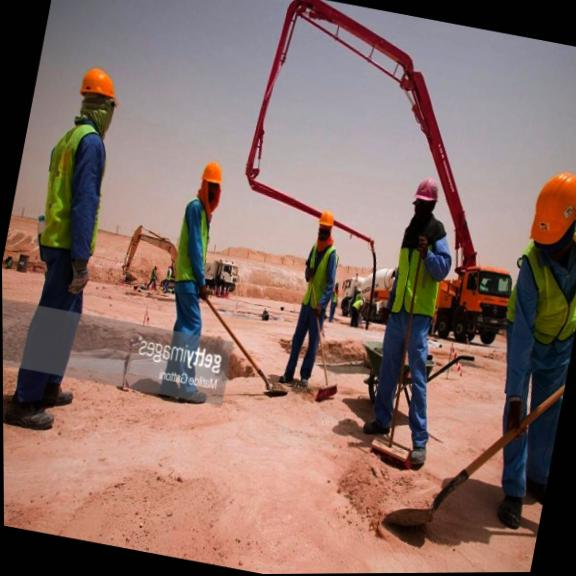safety_vest: (384, 231, 444, 325), (296, 245, 339, 321)
